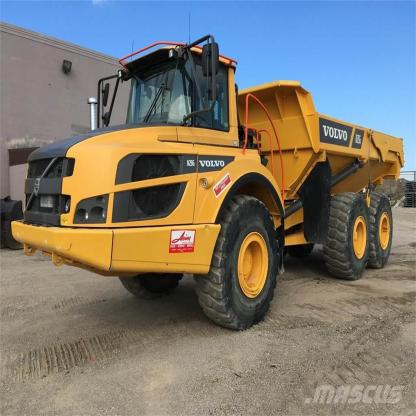dump_truck: (18, 25, 414, 337)
